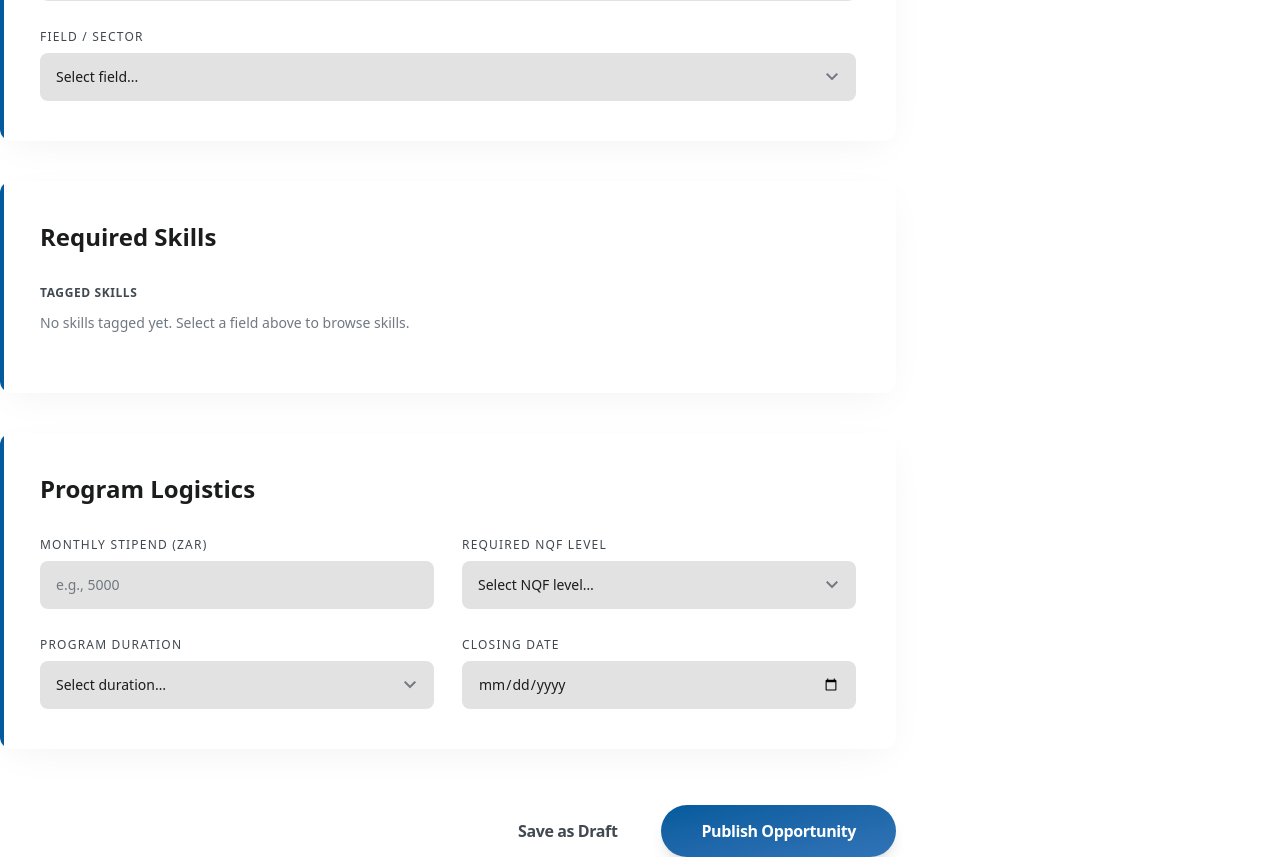
Test: OpportunityForm › handles draft save error
(page scrolled)
Click the button "Save as Draft": (568, 831) [494,807,642,855]
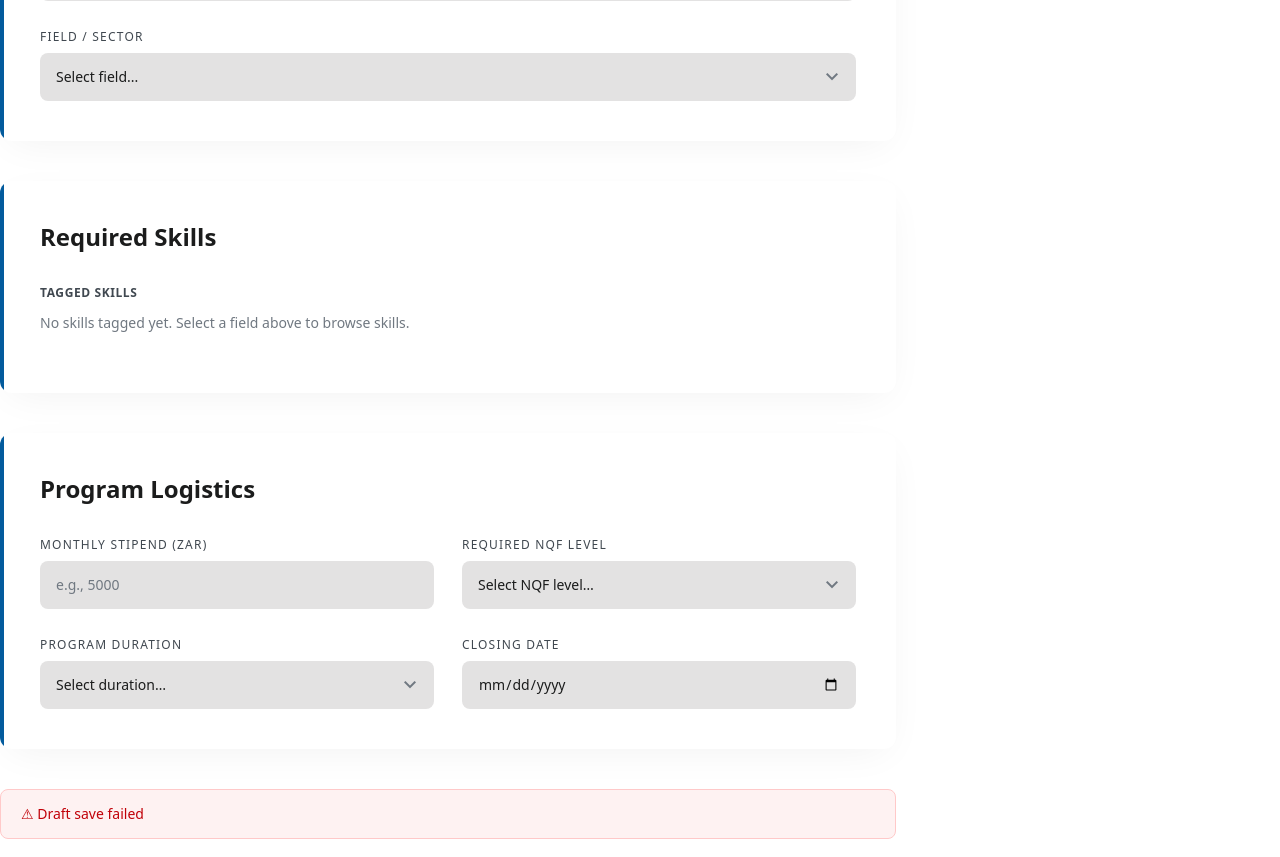
Expected: the text "⚠ Draft save failed" is shown, [0,789,896,839]
